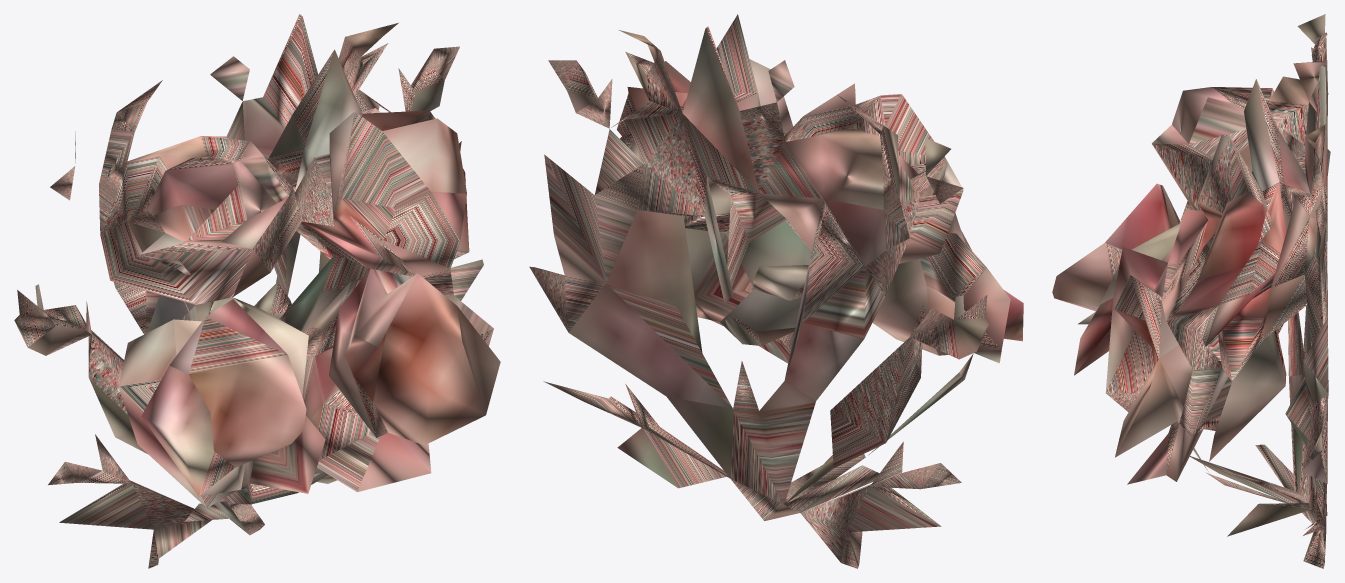
The picture shows the model from 3 angles, left to right: view 1: azimuth 30°, elevation 25°; view 2: azimuth 150°, elevation 25°; view 3: azimuth 270°, elevation 25°; orthographic projection. The views are drawn at different scales.
Visible parts, largest first — view 1: Rose-Bouquet-10-07; view 2: Rose-Bouquet-10-07; view 3: Rose-Bouquet-10-07.
Boxes of the visible parts, x1,y1,x2,y2 form: Rose-Bouquet-10-07: [14, 14, 500, 568]; Rose-Bouquet-10-07: [529, 14, 1023, 568]; Rose-Bouquet-10-07: [1052, 14, 1330, 568].
Size of the model in its own units: 0.3029 by 0.3205 by 0.1545.
1 material, 1 textured.
